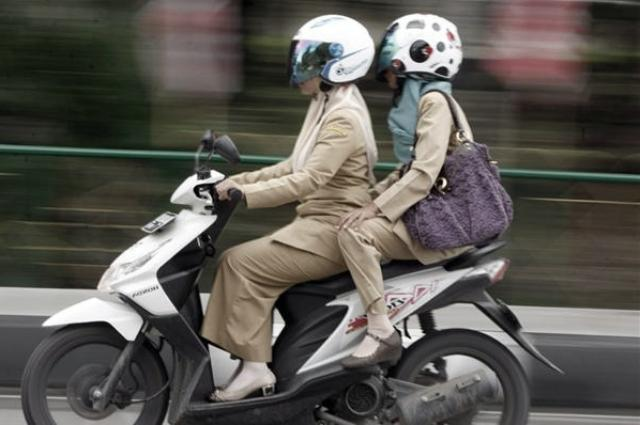helm: (286, 14, 379, 95), (375, 14, 465, 87)
motor: (19, 133, 565, 425)
